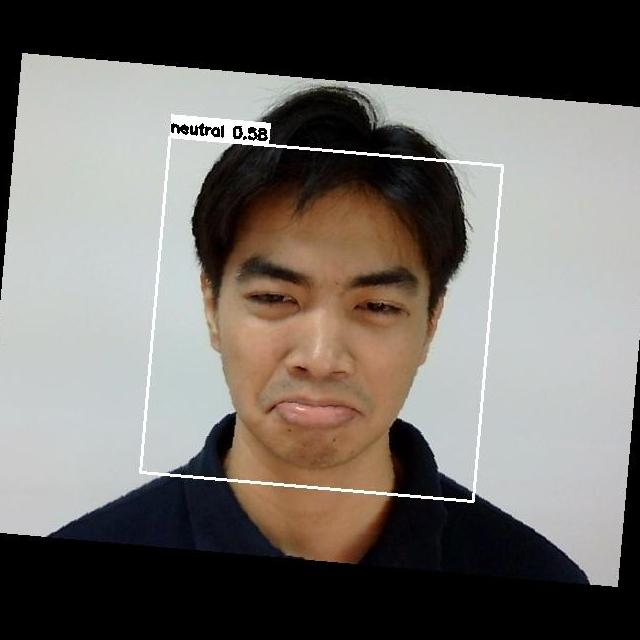Sad: (208, 226, 431, 448)
